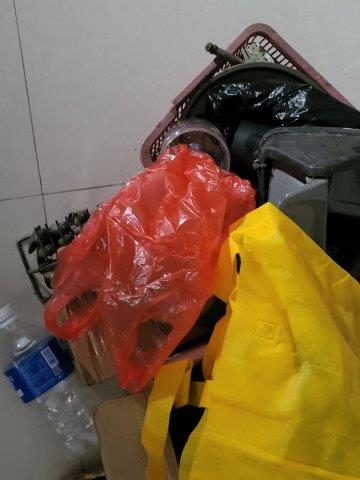botolplastik: (1, 308, 104, 464)
plastik: (50, 149, 252, 378)
